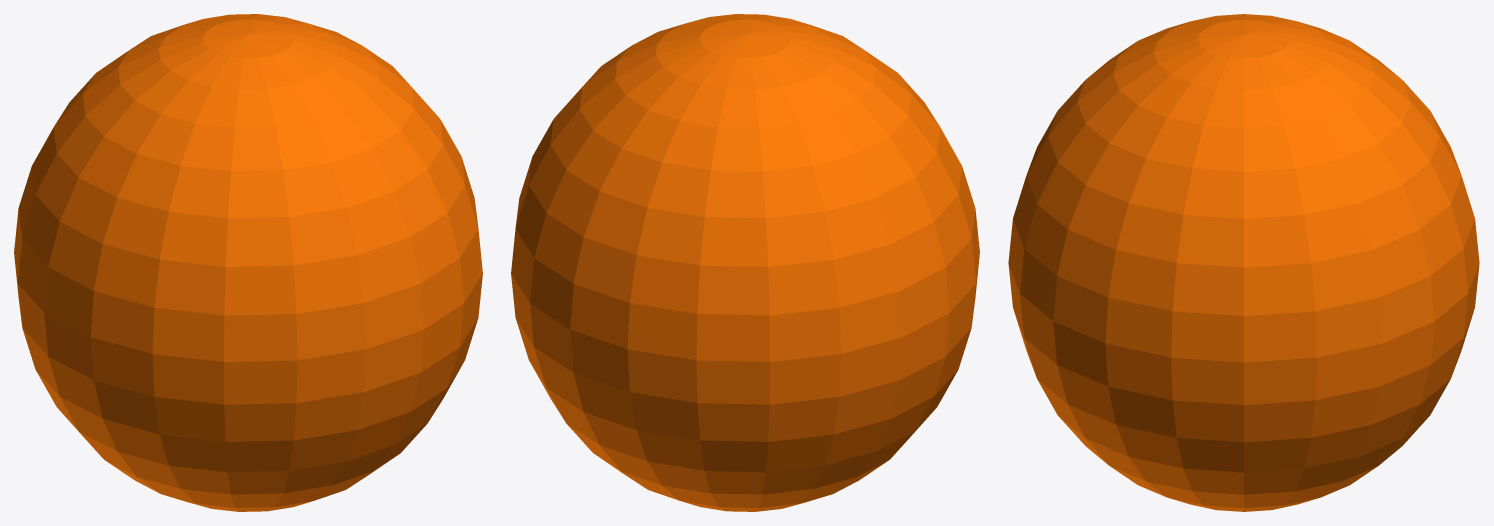
The model's file is Coco_Modelo.fbx.
The picture shows the model from 3 angles, left to right: view 1: azimuth 30°, elevation 25°; view 2: azimuth 150°, elevation 25°; view 3: azimuth 270°, elevation 25°; orthographic projection.
Visible parts, largest first — view 1: Coco; view 2: Coco; view 3: Coco.
Part boxes in pixels (x1,y1,x2,y2): Coco: (14, 14, 482, 511); Coco: (511, 14, 979, 511); Coco: (1008, 14, 1479, 511).
Size of the model in its own units: 1.38 by 1.48 by 1.38.
